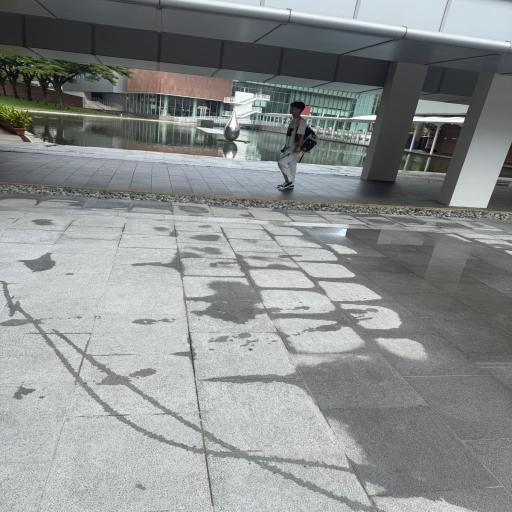person_left: (276, 101, 318, 190)
